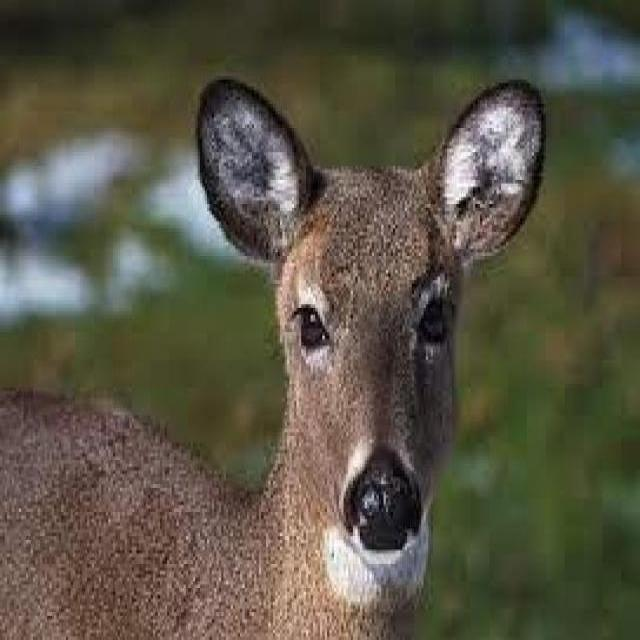deer: (2, 54, 559, 637)
